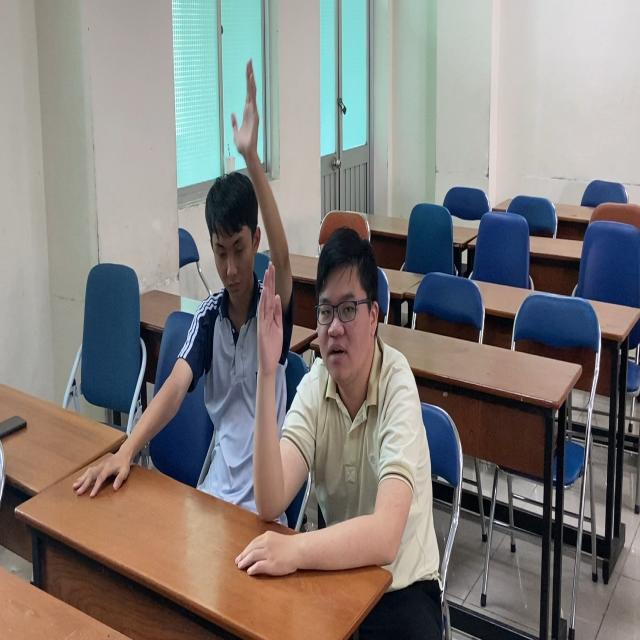raise_hand: (253, 223, 426, 583)
